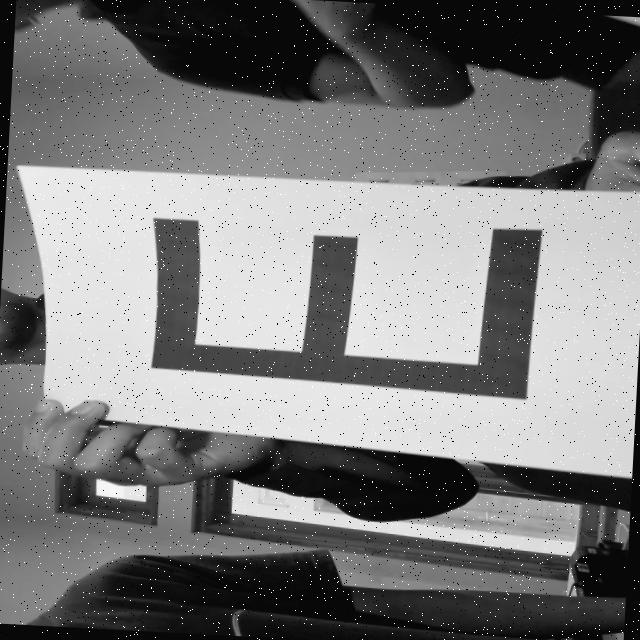e: (129, 189, 562, 417)
